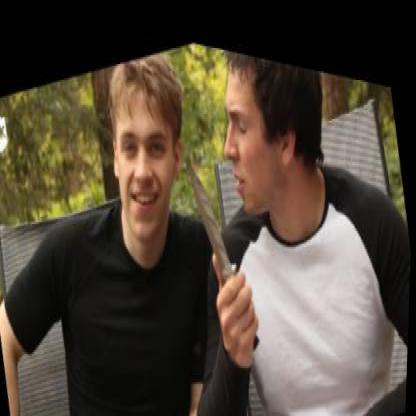knife: (179, 116, 267, 340)
